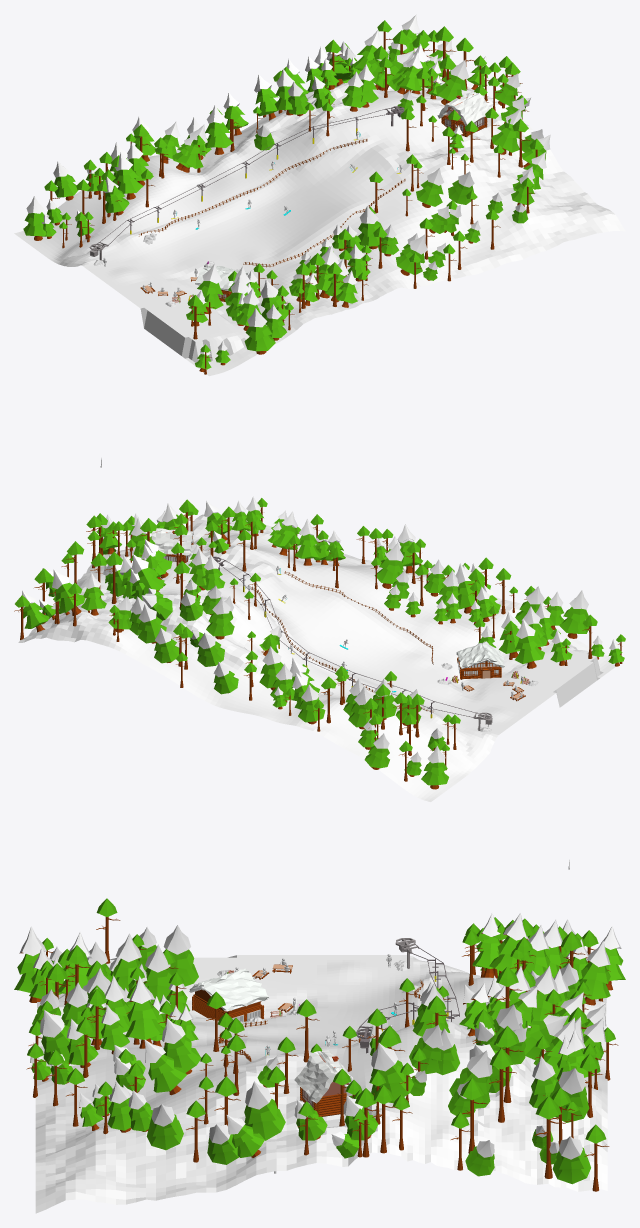
The picture shows the model from 3 angles, top to bottom: view 1: azimuth 30°, elevation 25°; view 2: azimuth 150°, elevation 25°; view 3: azimuth 270°, elevation 25°; orthographic projection. The views are drawn at different scales.
Visible parts, largest first — view 1: Landscape.002, Small House.002, El.114, El.030, El.023, El.097, El.102, El.047, El.077, El.087, Plane.040, El.104 (+4 smaller); view 2: Landscape.002, Cube.045, Small House.002, El.104, El.114, El.052, El.024, El.022, El.059, El.082, El.064, El.077 (+14 smaller); view 3: Landscape.002, Cube.045, Small House.002, El.047, El.022, El.023, El.110, El.014, El.092, El.117, El.077, El.104 (+57 smaller).
Part boxes in pixels (box(x1,y1,x2,y2)): Landscape.002: box(14, 71, 625, 376); Small House.002: box(437, 92, 489, 136); El.114: box(244, 308, 275, 354); El.030: box(205, 105, 233, 154); El.023: box(435, 59, 468, 105); El.097: box(114, 152, 143, 199); El.102: box(395, 234, 427, 275); El.047: box(491, 108, 522, 154); El.077: box(416, 168, 444, 207); El.087: box(175, 124, 207, 172); Plane.040: box(90, 108, 403, 250); El.104: box(197, 263, 223, 314); Landscape.002: box(18, 514, 619, 801); Cube.045: box(456, 641, 504, 679); Small House.002: box(151, 528, 193, 562); El.104: box(515, 618, 544, 668); El.114: box(559, 590, 589, 638); El.052: box(52, 569, 85, 615); El.024: box(206, 596, 234, 639); El.022: box(374, 542, 403, 588); El.059: box(421, 745, 448, 789); El.082: box(197, 632, 224, 666); El.064: box(138, 604, 166, 643); El.077: box(295, 519, 321, 565); Landscape.002: box(35, 955, 607, 1213); Cube.045: box(189, 968, 269, 1021); Small House.002: box(294, 1050, 353, 1116); El.047: box(244, 1081, 285, 1140); El.022: box(125, 976, 163, 1048); El.023: box(371, 1043, 413, 1103); El.110: box(144, 1039, 186, 1095); El.014: box(552, 1136, 590, 1184); El.092: box(578, 941, 610, 1005); El.117: box(146, 1104, 183, 1150); El.077: box(162, 1018, 200, 1074); El.104: box(163, 925, 198, 986).
Size of the model in its own units: 32161 by 19682 by 25442.
Materials: 5 (1 with a texture image).
